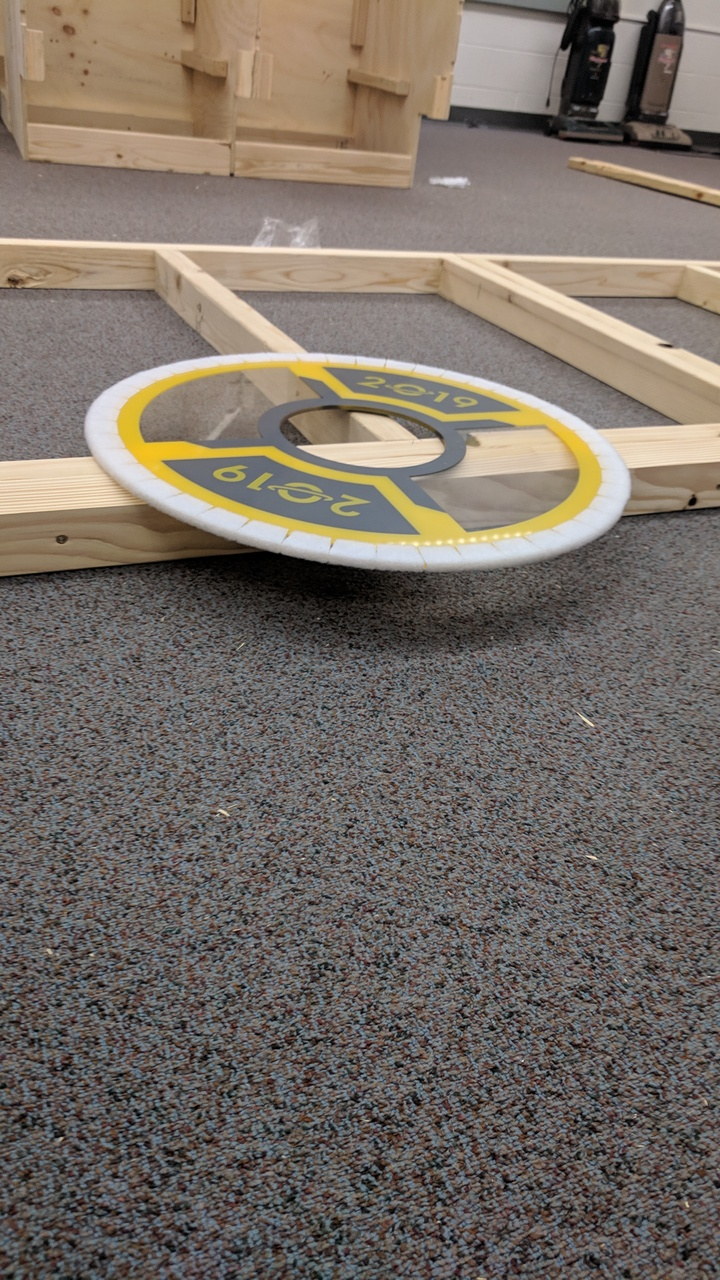hatch_panel: (77, 343, 661, 582)
